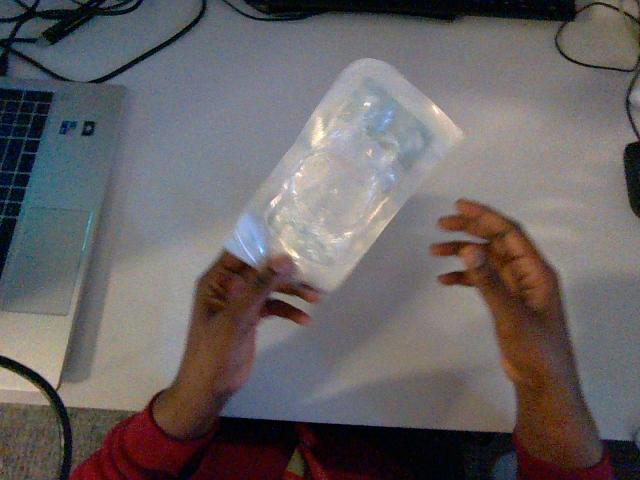gallipot: (225, 59, 461, 291)
